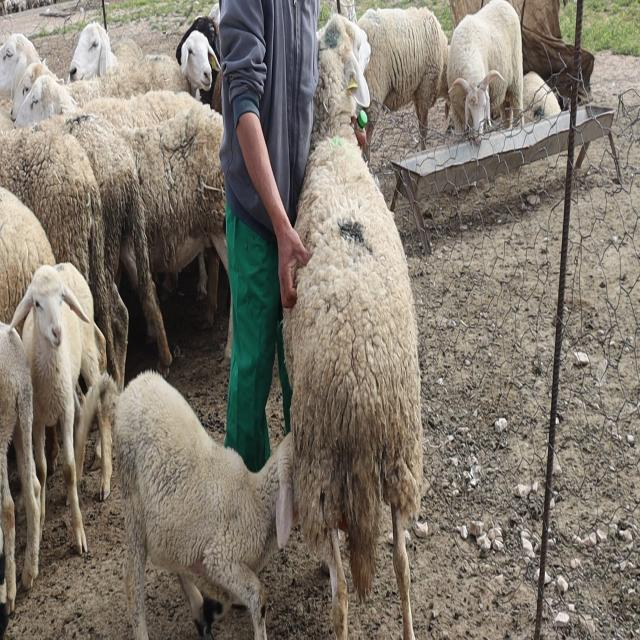Score_3: (283, 14, 423, 639)
